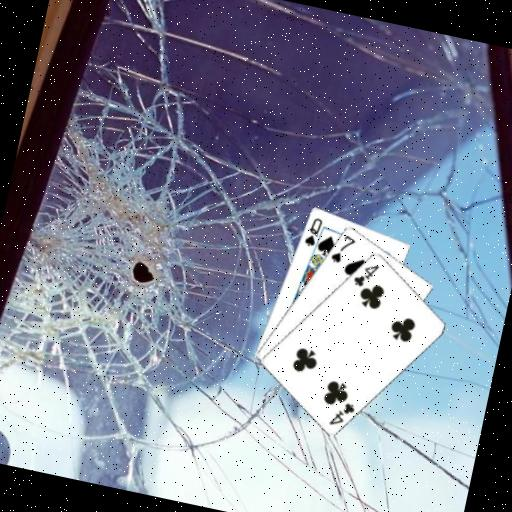4C: (349, 257, 381, 291), (326, 396, 358, 430)
7S: (326, 228, 358, 266)
QS: (300, 212, 325, 249)
